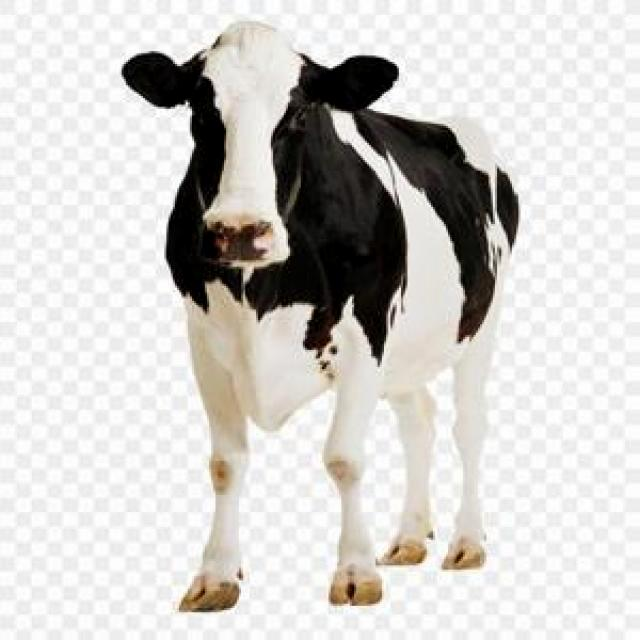COW: (122, 22, 519, 611)
